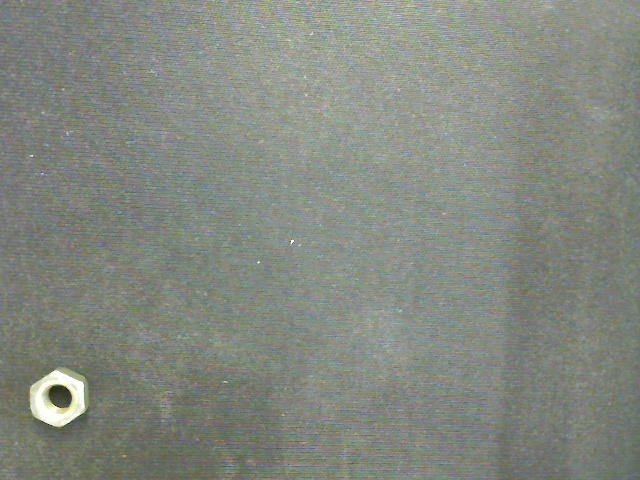Nut: (30, 366, 91, 428)
